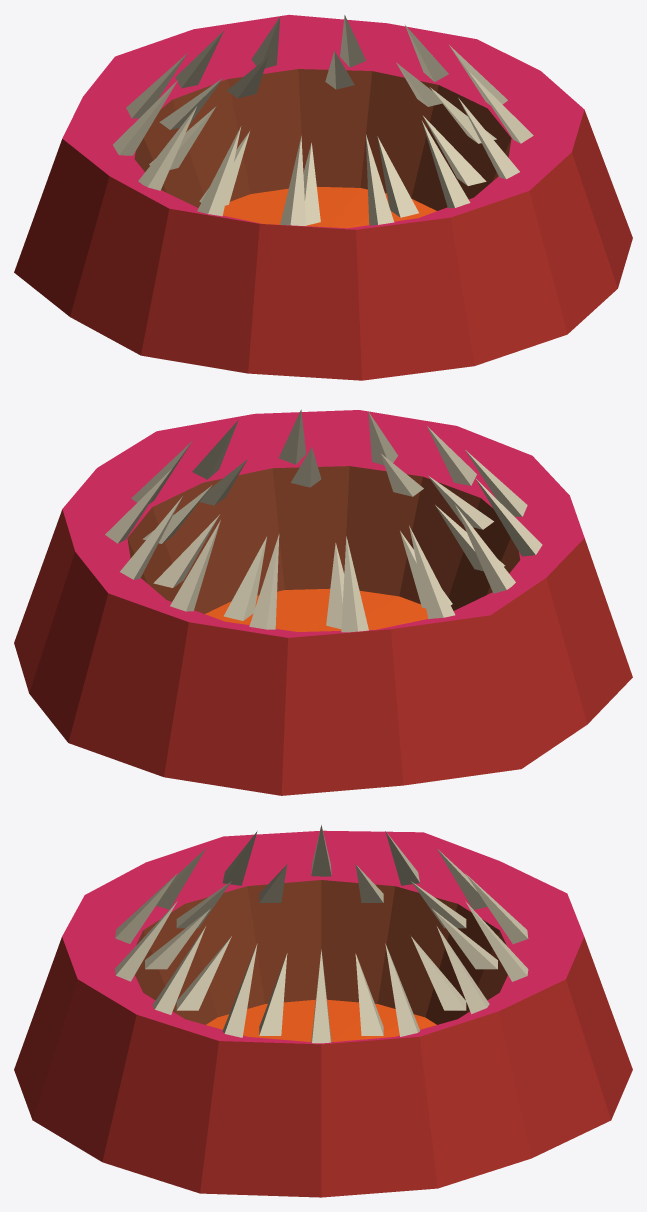
Rendered from hunger_maw.glb.
3 views of the same model, one above another, from view 1: azimuth 30°, elevation 25°; view 2: azimuth 150°, elevation 25°; view 3: azimuth 270°, elevation 25° (orthographic). The views are drawn at different scales.
Parts seen in each view (by area): view 1: hunger_maw; view 2: hunger_maw; view 3: hunger_maw.
Boxes of the visible parts, box(x1,y1,x2,y2) form: hunger_maw: box(14, 14, 632, 380); hunger_maw: box(14, 409, 632, 795); hunger_maw: box(14, 825, 632, 1197).
Bounding box in the file's own units: 3.26 × 1.1 × 3.37.
Materials: 1 (1 with a texture image).
